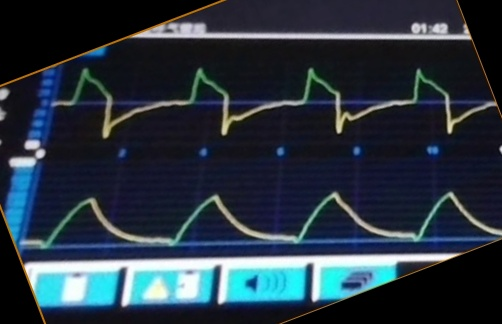Premature_cycling Flow: (63, 64, 481, 140)
Premature_cycling Volume: (34, 185, 486, 244)
